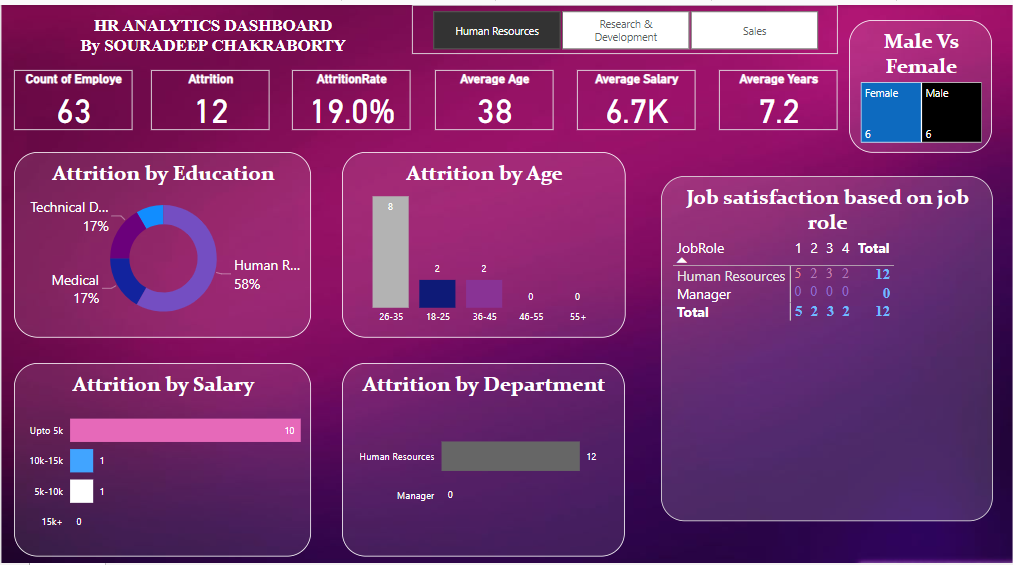

Layout of this report page (visuals, bound fields, positions):
{"tool":"powerbi","page":{"name":"Page 1","canvas":[1280,720],"ordinal":0},"visuals":[{"type":"card","title":"Count of Employe","fields":{"Values":["CountNonNull(HR_Analytics.EmpID)"]},"box":[16.8,82.3,149.5,75.6],"z":0},{"type":"card","title":"Attrition","fields":{"Values":["Sum(HR_Analytics.AttritionCount)"]},"box":[189.8,82.3,149.5,75.6],"z":1000},{"type":"card","title":"Average Age","fields":{"Values":["Avg(HR_Analytics.Age)"]},"box":[549.3,82.3,149.5,75.6],"z":2000},{"type":"card","title":"AttritionRate","fields":{"Values":["HR_Analytics.AttritionRate"]},"box":[367.9,82.3,149.5,75.6],"z":3000},{"type":"card","title":"Average Salary","fields":{"Values":["Avg(HR_Analytics.MonthlyIncome)"]},"box":[729,82.3,149.5,75.6],"z":4000},{"type":"card","title":"Average Years","fields":{"Values":["Avg(HR_Analytics.YearsAtCompany)"]},"box":[908.8,82.3,149.5,75.6],"z":5000},{"type":"donutChart","title":"Attrition by Education","fields":{"Category":["HR_Analytics.EducationField"],"Y":["Sum(HR_Analytics.AttritionCount)"]},"box":[16.8,186.5,376.3,235.2],"z":6000},{"type":"columnChart","title":"Attrition by Age","fields":{"Category":["HR_Analytics.AgeGroup"],"Y":["Sum(HR_Analytics.AttritionCount)"]},"box":[431.7,186.5,359.5,235.2],"z":7000},{"type":"pivotTable","title":"Job satisfaction based on job role","fields":{"Rows":["HR_Analytics.JobRole"],"Columns":["HR_Analytics.JobSatisfaction"],"Values":["Sum(HR_Analytics.AttritionCount)"]},"box":[834.9,250.3,419.9,341],"z":8000},{"type":"barChart","title":"Attrition by Salary","fields":{"Category":["HR_Analytics.SalarySlab"],"Y":["Sum(HR_Analytics.AttritionCount)"]},"box":[16.8,453.5,376.3,245.2],"z":9000},{"type":"barChart","title":"Attrition by Department ","fields":{"Category":["HR_Analytics.JobRole"],"Y":["Sum(HR_Analytics.AttritionCount)"]},"box":[431.7,453.5,357.8,245.2],"z":10000},{"type":"slicer","fields":{"Values":["HR_Analytics.Department"]},"box":[520.7,0,539.2,62.2],"z":11000},{"type":"treemap","title":"Male Vs Female","fields":{"Group":["HR_Analytics.Gender"],"Values":["Sum(HR_Analytics.AttritionCount)"]},"box":[1073.4,18.5,181.4,211.7],"z":12000},{"type":"textbox","box":[16.8,18.5,500.6,43.7],"z":12001}]}

Visuals, with their boxes in screenshot pixels (x1, y1, x2, y2), scaled from the page's 1280x720 canvas onto the 1013x565 screenshot:
"Count of Employe" card: detection(13, 65, 132, 124)
"Attrition" card: detection(150, 65, 269, 124)
"Average Age" card: detection(435, 65, 553, 124)
"AttritionRate" card: detection(291, 65, 409, 124)
"Average Salary" card: detection(577, 65, 695, 124)
"Average Years" card: detection(719, 65, 838, 124)
"Attrition by Education" donutChart: detection(13, 146, 311, 331)
"Attrition by Age" columnChart: detection(342, 146, 626, 331)
"Job satisfaction based on job role" pivotTable: detection(661, 196, 993, 464)
"Attrition by Salary" barChart: detection(13, 356, 311, 548)
"Attrition by Department " barChart: detection(342, 356, 625, 548)
slicer - HR_Analytics.Department: detection(412, 0, 839, 49)
"Male Vs Female" treemap: detection(849, 15, 993, 181)
textbox: detection(13, 15, 409, 49)
